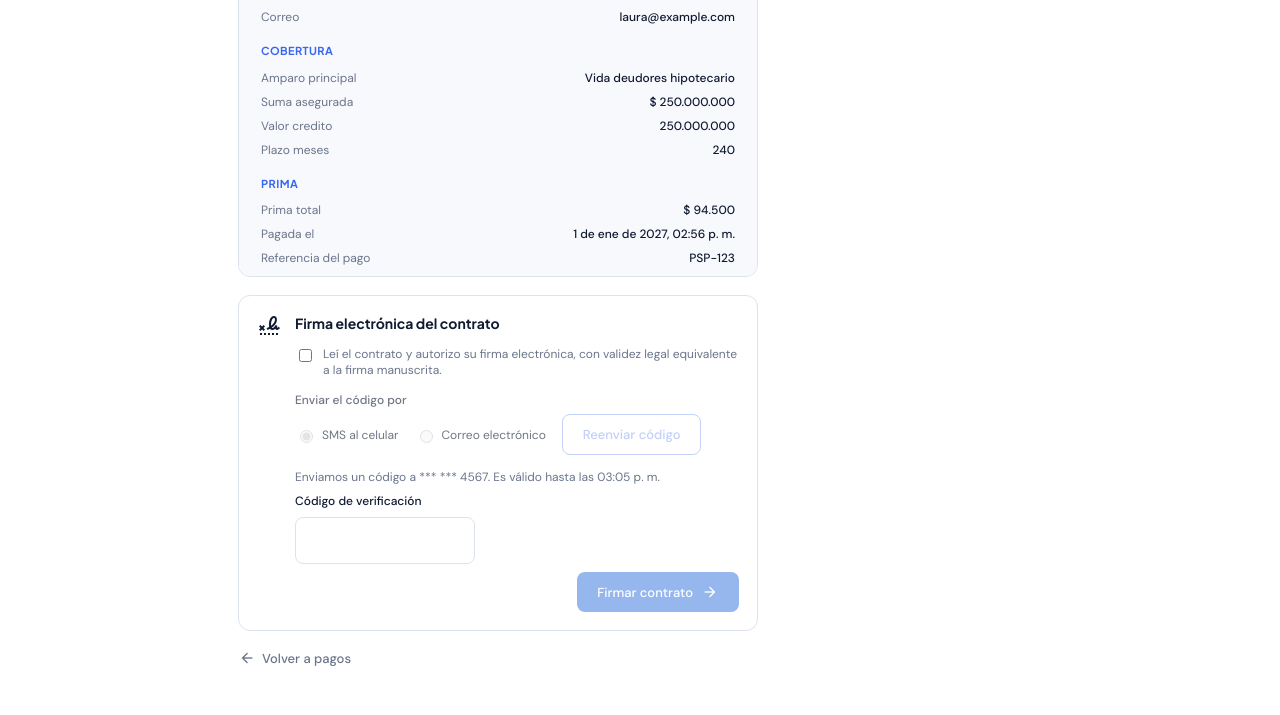
Scenario: muestra el bloqueo y oculta la firma
This screenshot has width=1280, height=715.
(page scrolled)
Type "000000" into the field labelled "Código de verificación" at (385, 540), box [295, 517, 475, 564]
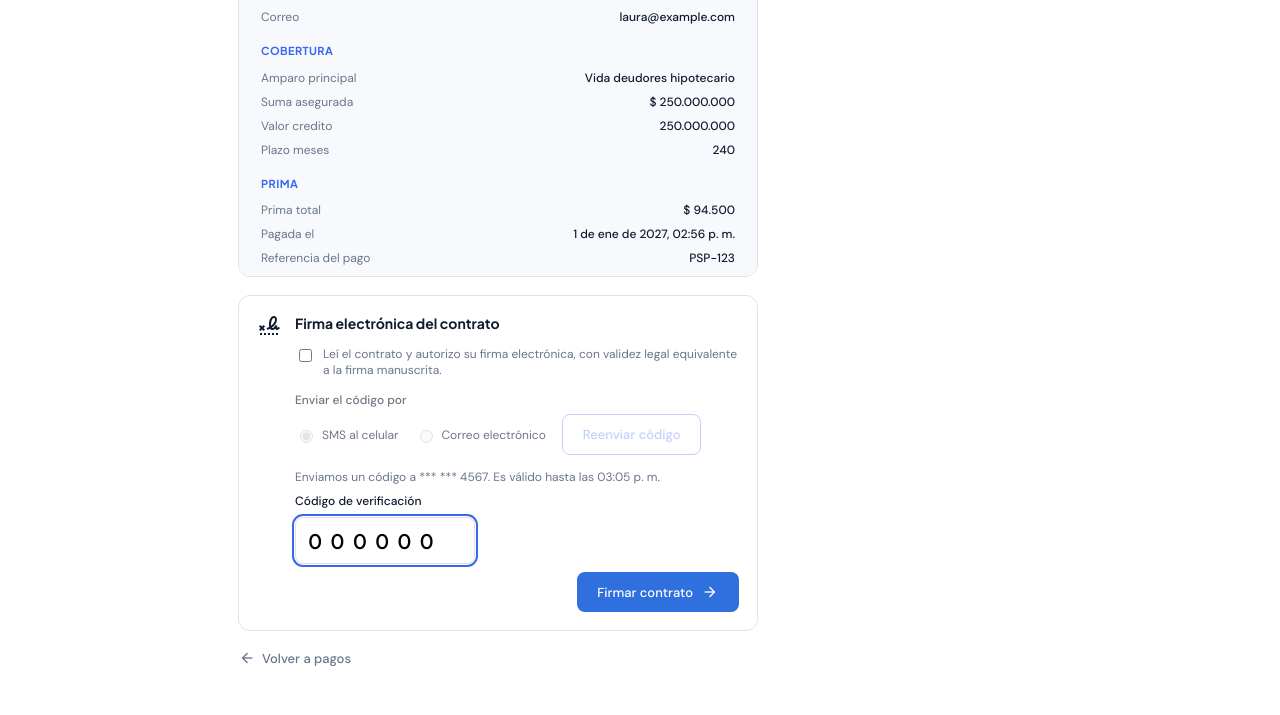
Click the button "Firmar contrato" at (658, 592), box [577, 572, 739, 612]
(page scrolled)
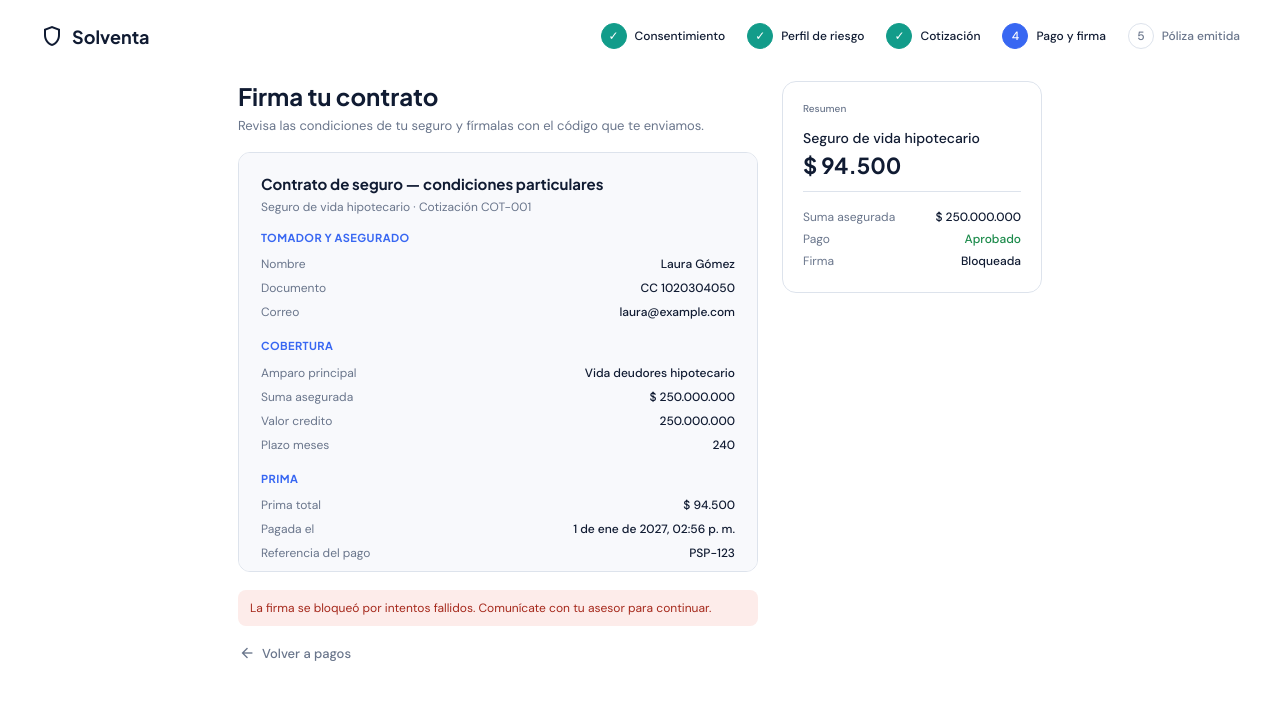
Expected: the text "se bloqueó por intentos fallidos" is shown, [250, 600, 711, 616]
Expected: the label labelled "Código de verificación" is gone
